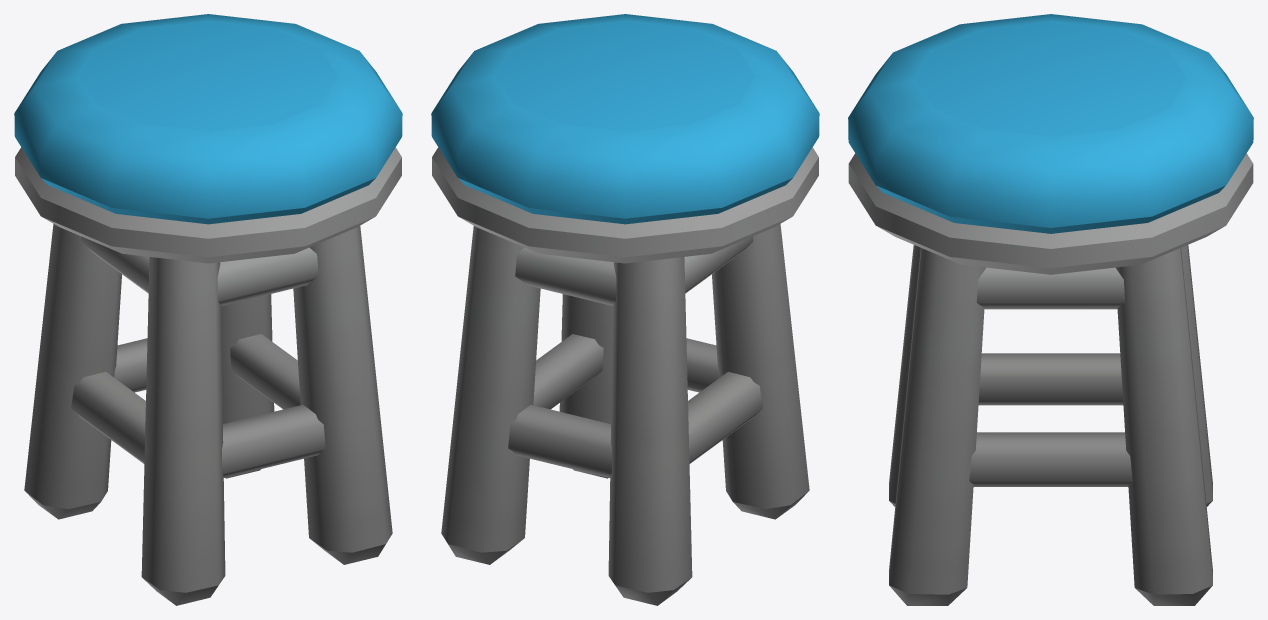
The model's file is Stool_2_G.glb.
3 views of the same model, side by side, from view 1: azimuth 30°, elevation 25°; view 2: azimuth 150°, elevation 25°; view 3: azimuth 270°, elevation 25° (orthographic). The views are drawn at different scales.
Visible parts, largest first — view 1: Stool_2_G; view 2: Stool_2_G; view 3: Stool_2_G.
Part boxes in pixels (x1,y1,x2,y2): Stool_2_G: (14, 14, 402, 605); Stool_2_G: (431, 14, 819, 605); Stool_2_G: (848, 14, 1253, 605).
Size of the model in its own units: 0.4425 by 0.5714 by 0.4425.
2 materials, 2 textured.
